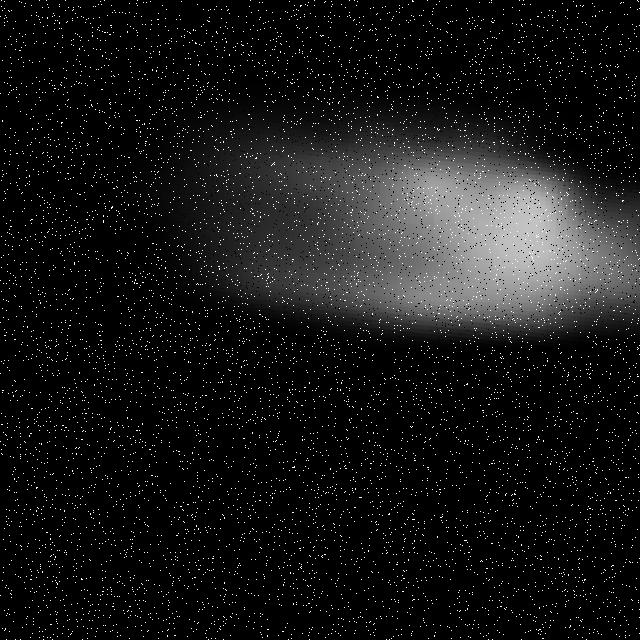person: (89, 45, 640, 383)
